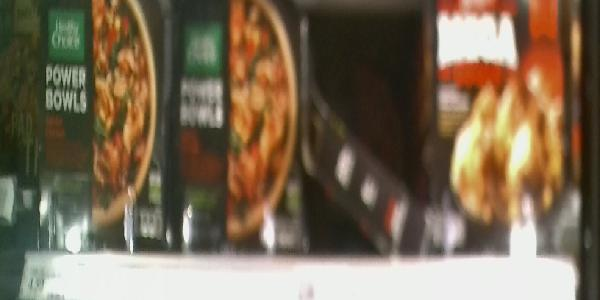pizza1: (1, 1, 177, 252), (430, 1, 569, 254), (173, 1, 307, 254)
